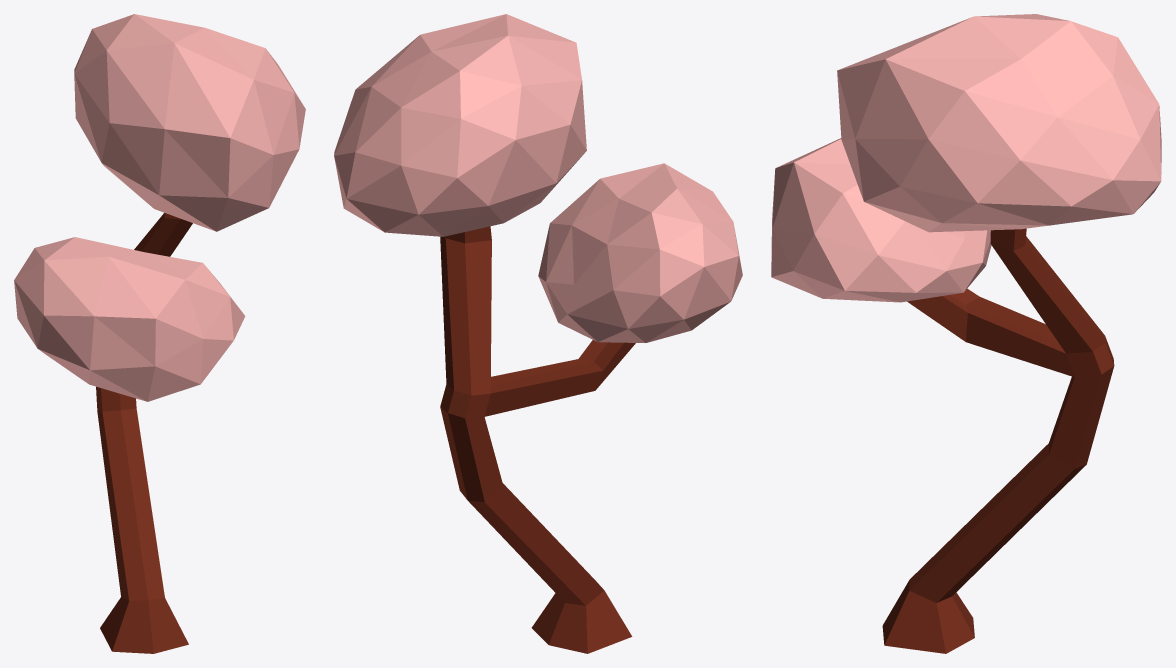
Rendered from tree2.fbx.
3 renders of one model, left to right at view 1: azimuth 30°, elevation 25°; view 2: azimuth 150°, elevation 25°; view 3: azimuth 270°, elevation 25°, orthographic. The views are drawn at different scales.
Parts seen in each view (by area): view 1: Low poly cherry tree #1; view 2: Low poly cherry tree #1; view 3: Low poly cherry tree #1.
Boxes of the visible parts, x1,y1,x2,y2 form: Low poly cherry tree #1: [14, 14, 305, 653]; Low poly cherry tree #1: [334, 14, 742, 653]; Low poly cherry tree #1: [771, 14, 1161, 653].
Size of the model in its own units: 274 by 482 by 265.
